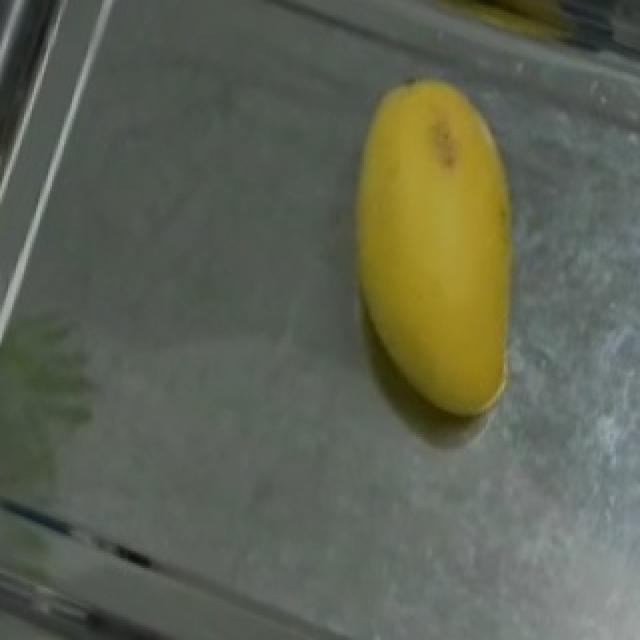fruit: (294, 44, 586, 452)
